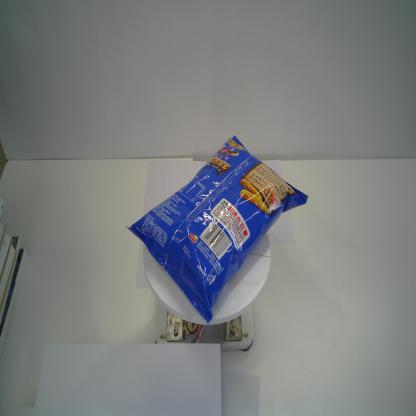Puffed Food: (125, 134, 309, 324)
